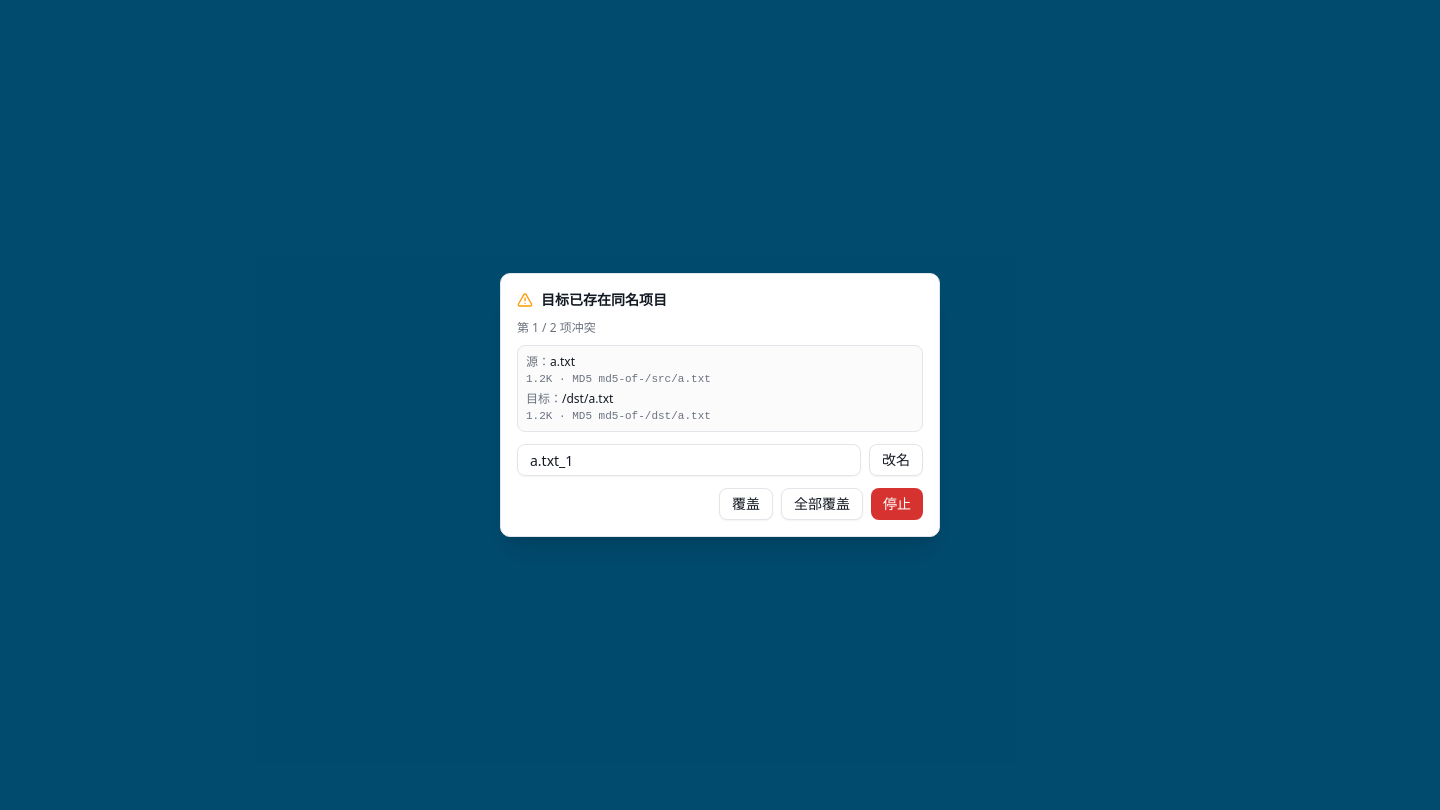
it: ConflictDialog › 逐条裁决时按当前条目查询，切下一条重新查询（不批量预查，v0.37）
Click the button "覆盖" at x=746, y=504, box [719,488,773,520]
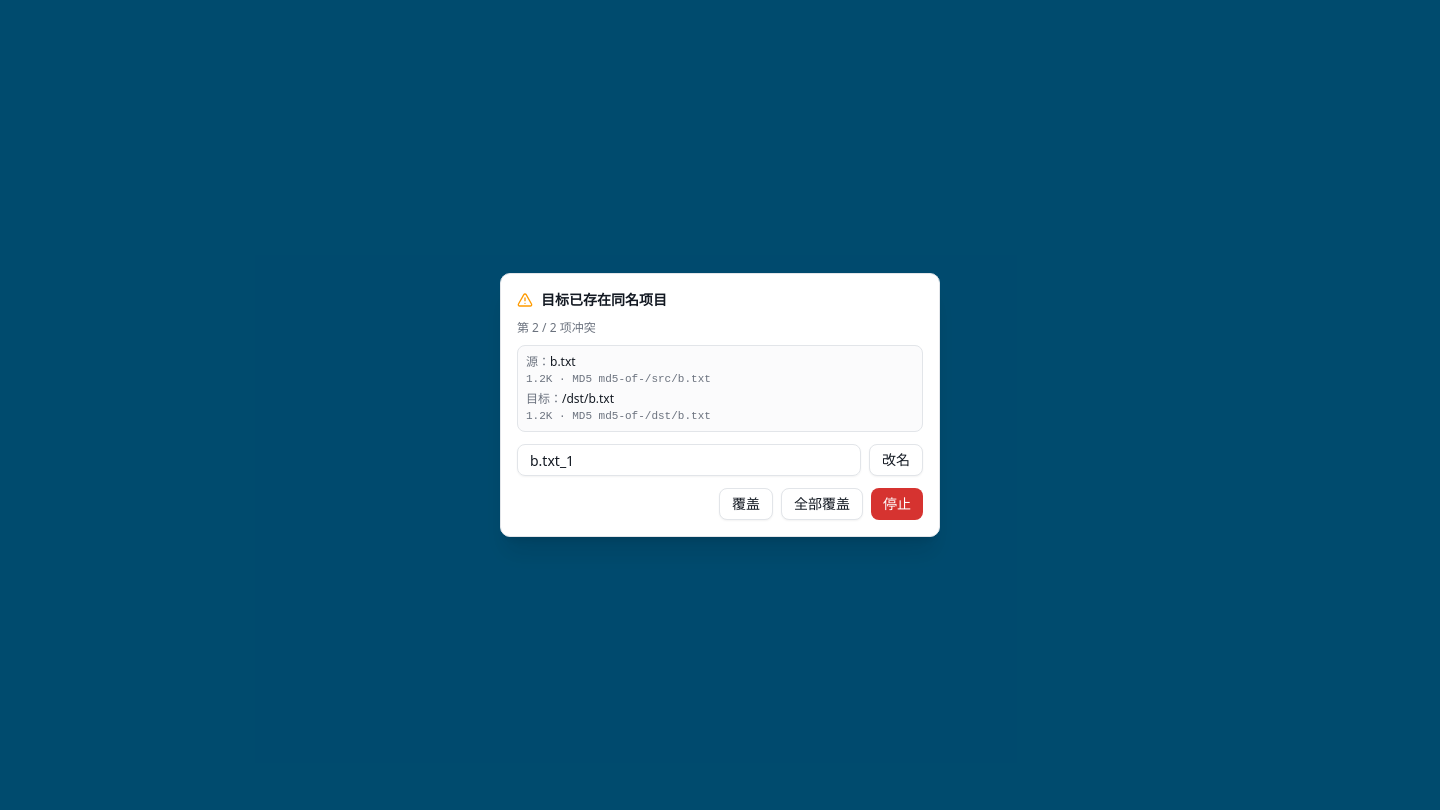
Now the text "md5-of-/src/a.txt" is gone
Now the text "1.2K · MD5 md5-of-/src/b.txt" is shown, box [526,373,711,385]
